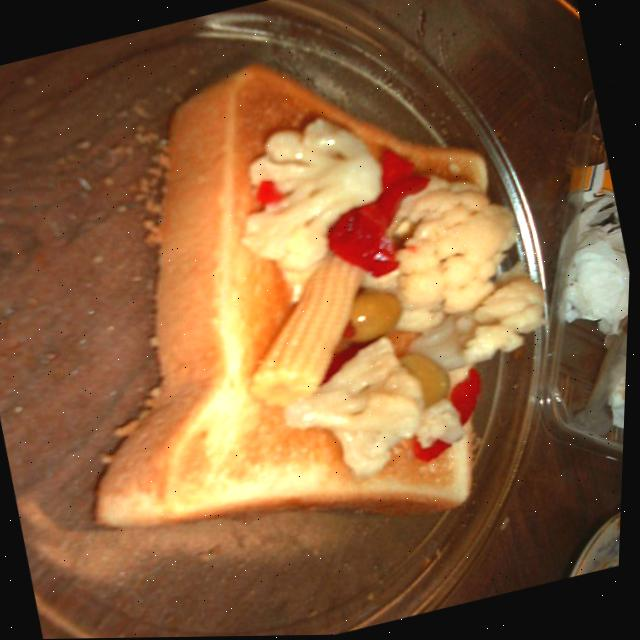面包点心: (19, 40, 567, 567)
